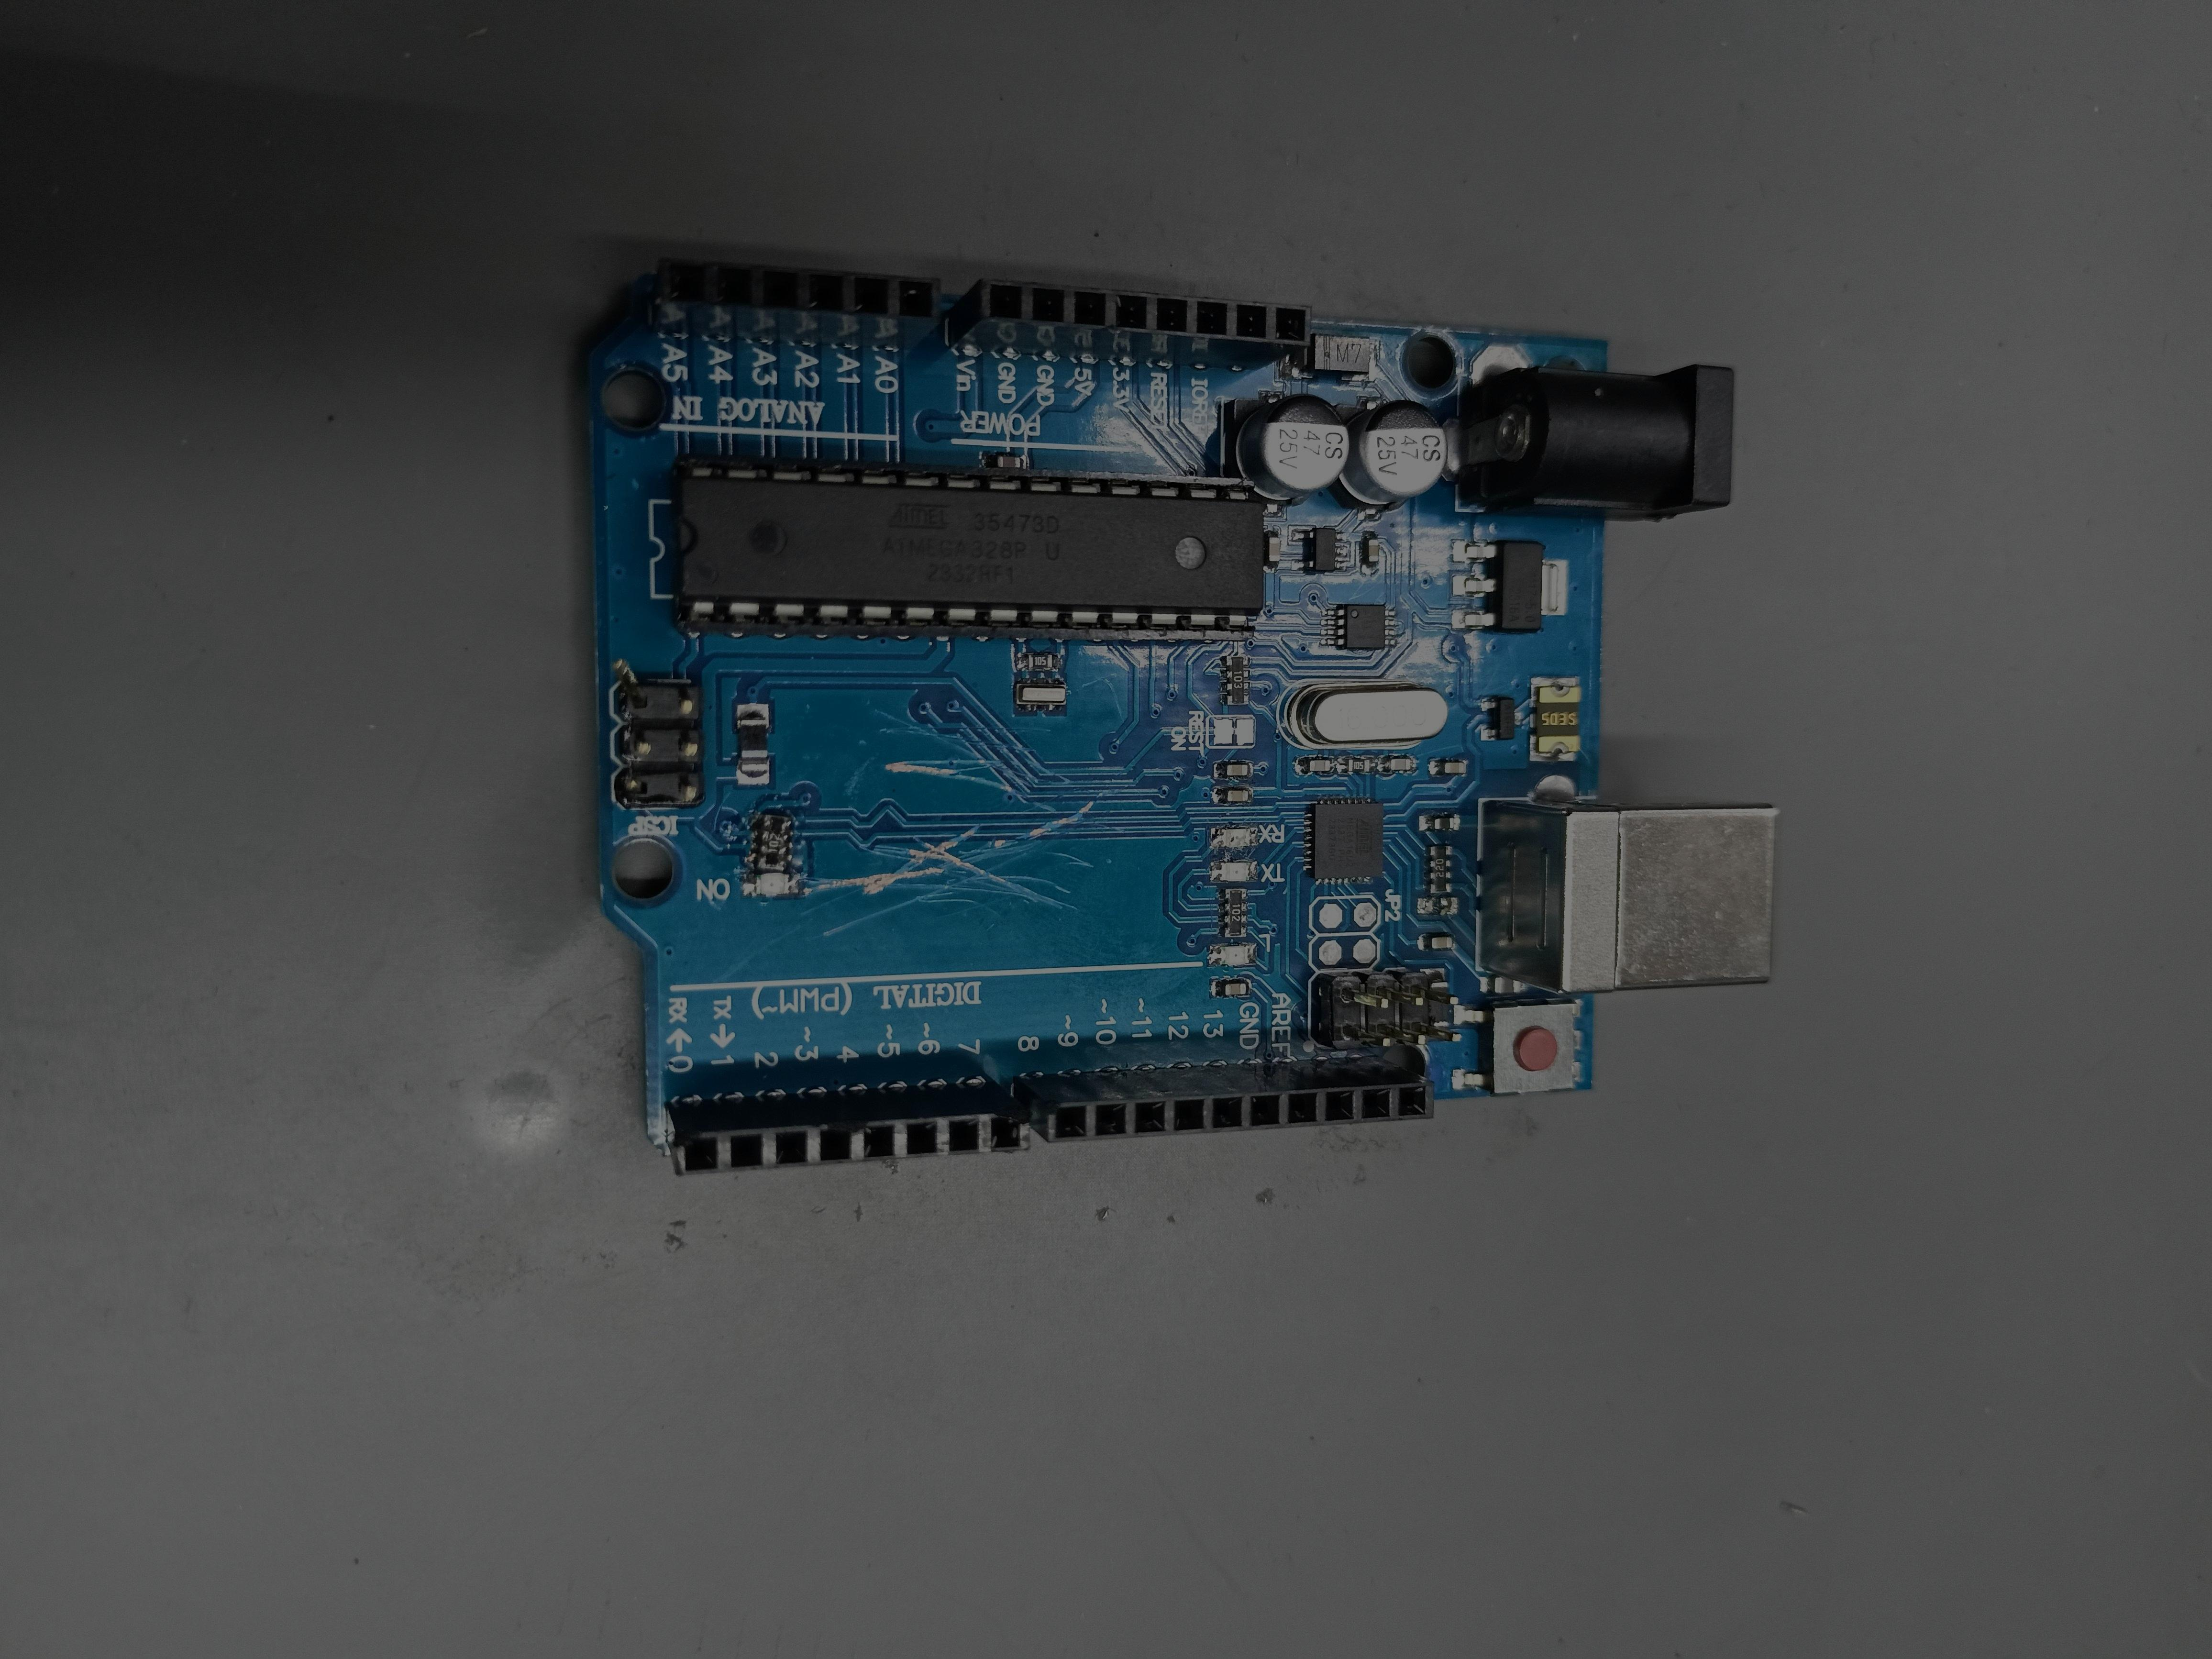ATmega328 chip: (671, 455, 1268, 641)
Arduino board: (589, 258, 1777, 1178)
Scratch: (803, 840, 1078, 936), (885, 758, 1069, 810), (874, 709, 1036, 760), (1017, 788, 1123, 838), (874, 824, 981, 873), (712, 925, 801, 983), (1451, 645, 1512, 709), (1043, 810, 1123, 847), (1082, 674, 1127, 735), (935, 896, 1019, 925), (843, 753, 880, 802), (704, 793, 730, 842), (1047, 850, 1094, 868), (986, 852, 1026, 871), (721, 817, 749, 842), (1350, 580, 1383, 599), (1416, 744, 1465, 756), (979, 836, 1015, 849), (981, 728, 1050, 734), (1580, 749, 1594, 772), (709, 899, 728, 910), (1245, 849, 1256, 859), (859, 845, 874, 852), (1242, 849, 1249, 857), (1224, 850, 1233, 857), (988, 924, 995, 931), (1230, 849, 1237, 854), (859, 741, 867, 744), (1106, 859, 1111, 864), (1024, 899, 1029, 903), (1240, 852, 1242, 856)
USB: (1480, 800, 1775, 995)
capacitor: (1223, 394, 1350, 507), (1325, 401, 1447, 512)
pins: (1014, 1054, 1435, 1143), (665, 1080, 1033, 1176), (949, 279, 1313, 369), (651, 258, 941, 350)
resistor: (754, 814, 792, 873), (1223, 889, 1247, 938), (1226, 655, 1249, 704), (1430, 845, 1453, 892)
